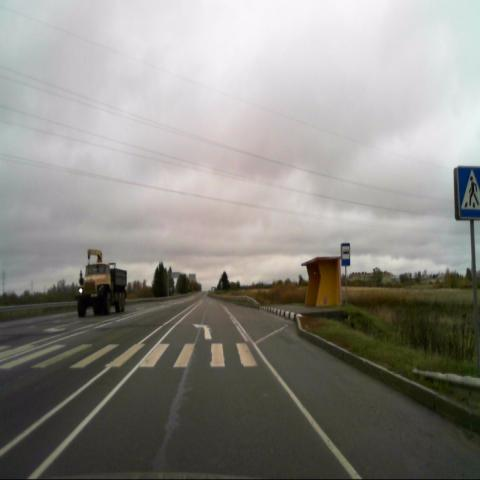5_16: (341, 242, 350, 267)
